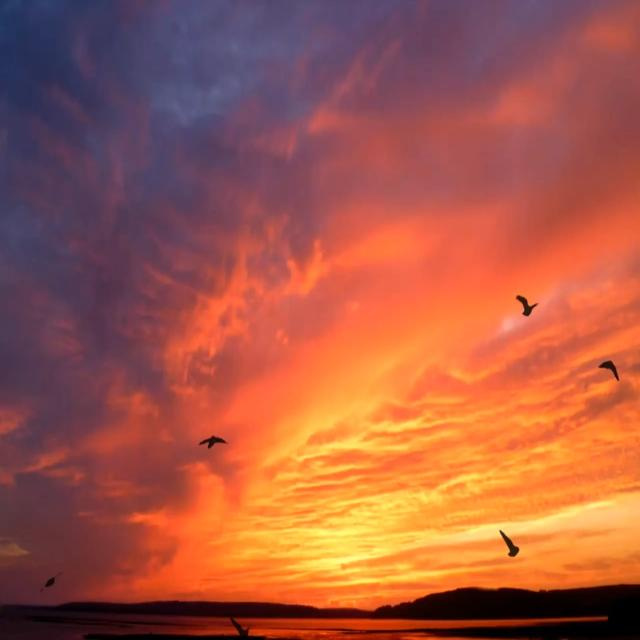bird: (514, 283, 541, 322), (496, 522, 521, 564), (197, 428, 228, 461), (599, 356, 625, 388), (228, 609, 252, 640), (39, 566, 58, 593)
